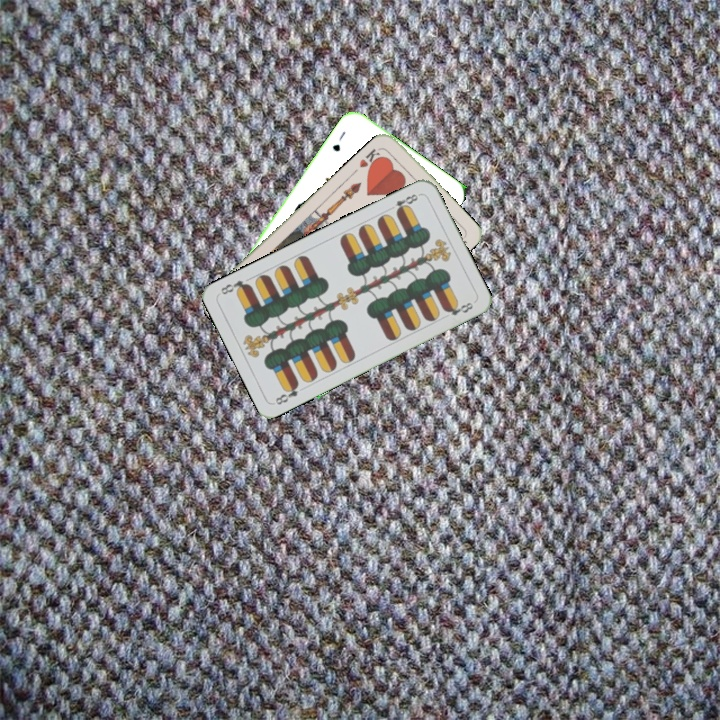E8: (385, 190, 423, 216), (271, 379, 301, 407)
GU: (328, 127, 348, 154)
HK: (355, 143, 386, 173)
